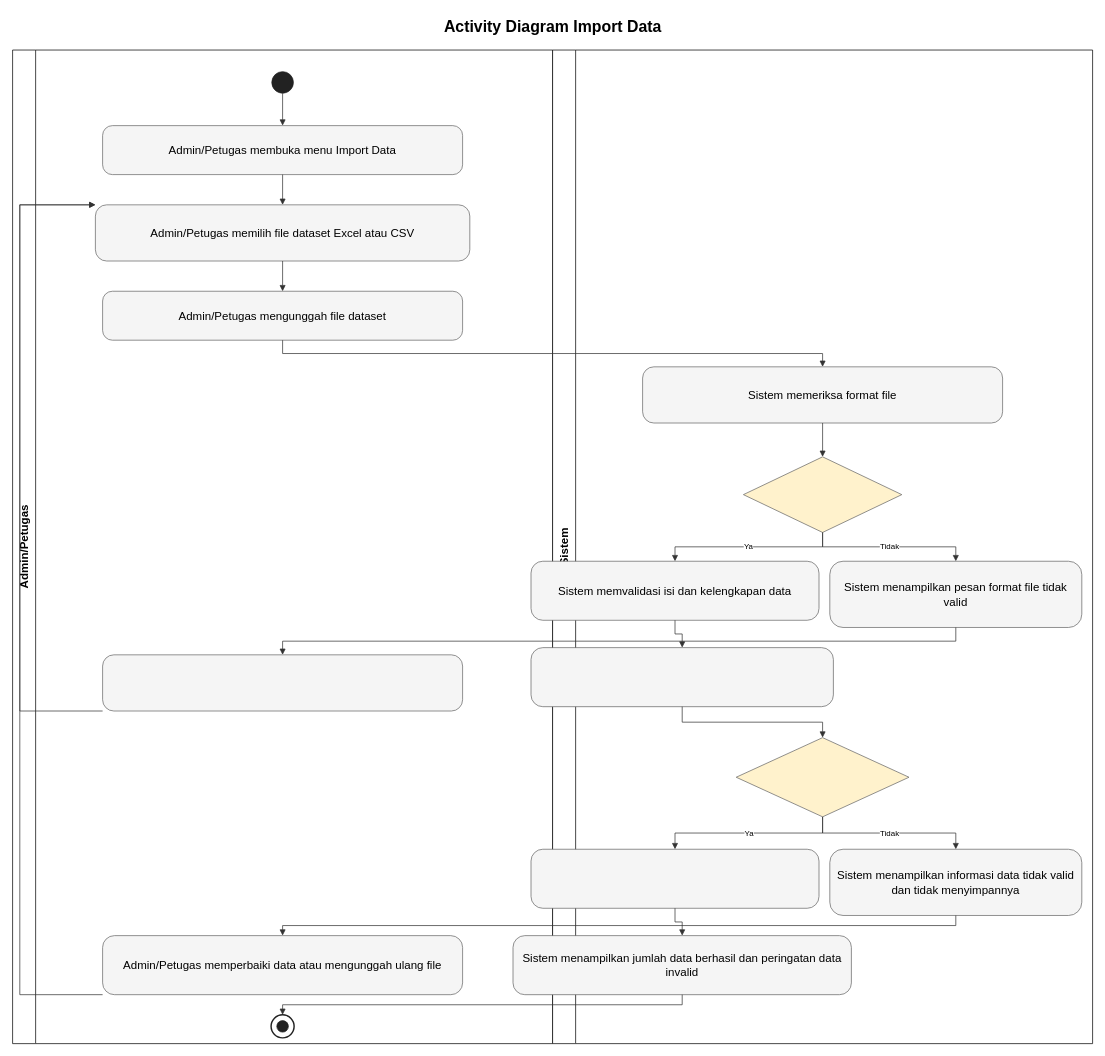
Some shapes in this 1105 by 1056 pixel diagram are drawn without their labels. The shapes that lost their labels are listed below. From the top down, each one's centre as x and y in pixels, then its label:
At (x=822, y=494): "Format Excel/CSV valid?".
At (x=282, y=682): "Admin/Petugas memperbaiki atau memilih file lain".
At (x=681, y=677): "Sistem menampilkan pratinjau dan jumlah data".
At (x=822, y=777): "Ada data valid yang dapat diimpor?".
At (x=674, y=878): "Sistem menyimpan hanya data valid ke basis data".
